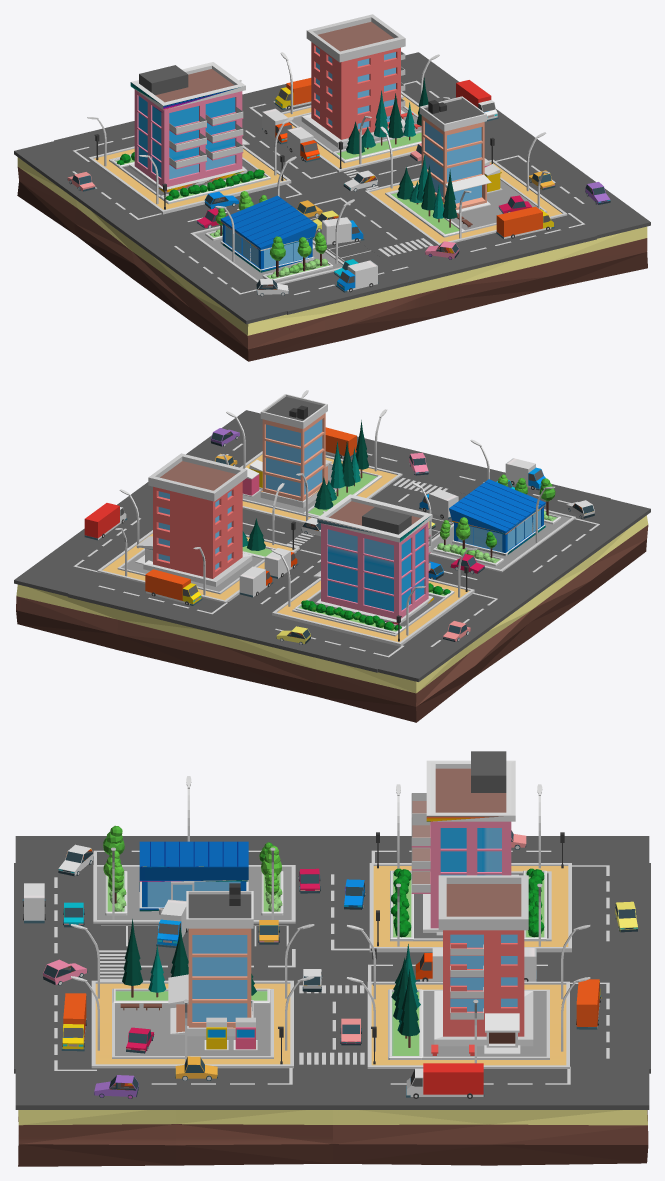
The model's file is Lowpoly_City_Free_Pack.obj.
3 renders of one model, top to bottom at view 1: azimuth 30°, elevation 25°; view 2: azimuth 150°, elevation 25°; view 3: azimuth 270°, elevation 25°, orthographic. The views are drawn at different scales.
Parts seen in each view (by area): view 1: ROAD, Floor_4, House, House_1, House_2, Shop, Floor, Floor_2, ROAD.Lines.12, Floor.4_3, Floor.4_2, Car_08.5 (+14 smaller); view 2: ROAD, Floor_4, House, House_1, House_2, Shop, Floor, ROAD.Lines.12, Floor.4_3, Floor_1, Car_08.3, Floor_2 (+11 smaller); view 3: ROAD, Floor_4, House_1, House, House_2, Shop, Floor_2, Floor_1, Floor, Floor.4_2, ROAD.Lines.12, Floor.4_3 (+25 smaller).
Part boxes in pixels (x1=…): ROAD: x1=14, y1=52, x2=650, y2=324; Floor_4: x1=17, y1=157, x2=647, y2=361; House: x1=129, y1=62, x2=249, y2=192; House_1: x1=301, y1=14, x2=405, y2=147; House_2: x1=419, y1=96, x2=491, y2=212; Shop: x1=220, y1=195, x2=317, y2=272; Floor: x1=88, y1=145, x2=291, y2=214; Floor_2: x1=364, y1=159, x2=567, y2=245; ROAD.Lines.12: x1=72, y1=80, x2=584, y2=294; Floor.4_3: x1=190, y1=225, x2=343, y2=284; Floor.4_2: x1=385, y1=177, x2=547, y2=237; Car_08.5: x1=496, y1=206, x2=554, y2=238; ROAD: x1=14, y1=410, x2=650, y2=681; Floor_4: x1=16, y1=515, x2=648, y2=722; House: x1=313, y1=494, x2=433, y2=624; House_1: x1=135, y1=453, x2=252, y2=586; House_2: x1=260, y1=394, x2=332, y2=507; Shop: x1=449, y1=479, x2=545, y2=556; Floor: x1=272, y1=578, x2=474, y2=646; ROAD.Lines.12: x1=73, y1=443, x2=599, y2=657; Floor.4_3: x1=428, y1=509, x2=575, y2=572; Floor_1: x1=97, y1=530, x2=299, y2=603; Car_08.3: x1=145, y1=569, x2=202, y2=605; Floor_2: x1=240, y1=451, x2=402, y2=523; ROAD: x1=14, y1=836, x2=650, y2=1109; Floor_4: x1=18, y1=1110, x2=648, y2=1166; House_1: x1=434, y1=875, x2=533, y2=1054; House: x1=411, y1=751, x2=518, y2=935; House_2: x1=168, y1=883, x2=253, y2=1036; Shop: x1=139, y1=841, x2=248, y2=911; Floor_2: x1=91, y1=980, x2=293, y2=1068; Floor_1: x1=367, y1=981, x2=569, y2=1068; Floor: x1=369, y1=863, x2=571, y2=952; Floor.4_2: x1=112, y1=989, x2=273, y2=1058; ROAD.Lines.12: x1=54, y1=850, x2=609, y2=1084; Floor.4_3: x1=93, y1=865, x2=295, y2=923.
Size of the model in its own units: 15.35 by 5.21 by 15.35.
1 material, 1 textured.
